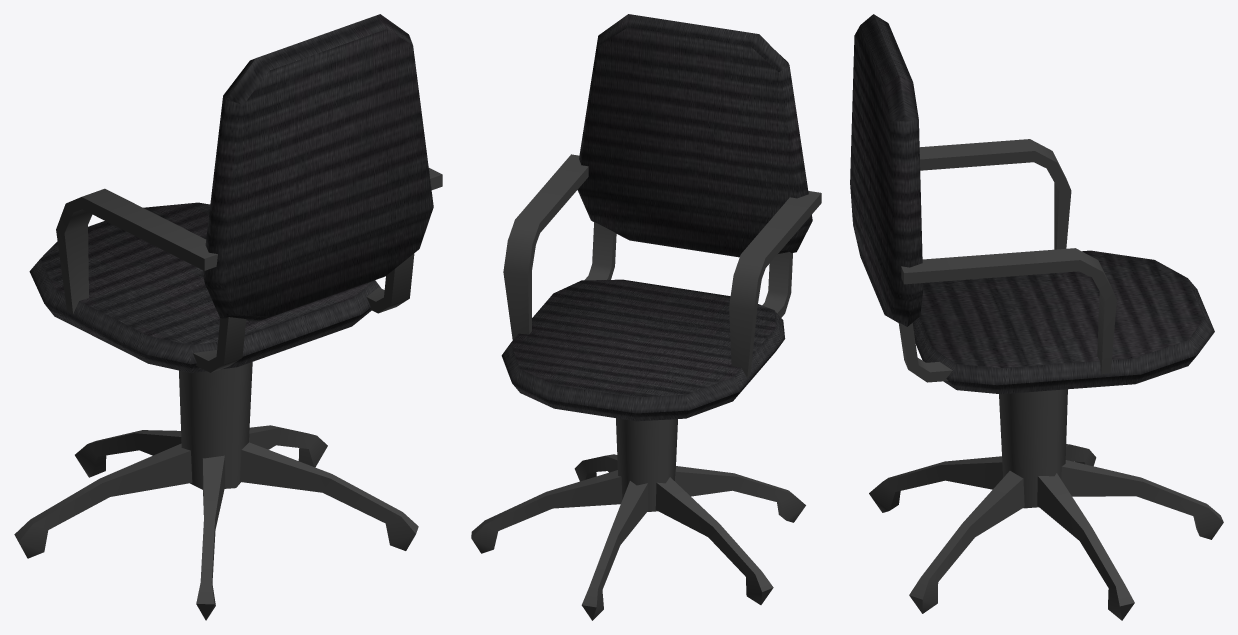
3 renders of one model, left to right at view 1: azimuth 30°, elevation 25°; view 2: azimuth 150°, elevation 25°; view 3: azimuth 270°, elevation 25°, orthographic. The views are drawn at different scales.
Visible parts, largest first — view 1: Cylinder017_Fabric_0, Cylinder017_Material010_0; view 2: Cylinder017_Fabric_0, Cylinder017_Material010_0; view 3: Cylinder017_Fabric_0, Cylinder017_Material010_0.
Boxes of the visible parts, box(x1,y1,x2,y2) form: Cylinder017_Fabric_0: box(29, 14, 433, 373); Cylinder017_Material010_0: box(14, 168, 442, 620); Cylinder017_Fabric_0: box(501, 14, 812, 421); Cylinder017_Material010_0: box(471, 154, 821, 620); Cylinder017_Fabric_0: box(850, 14, 1214, 394); Cylinder017_Material010_0: box(869, 139, 1223, 620).
Bounding box in the file's own units: 0.4983 × 0.7994 × 0.5213.
2 materials, 1 textured.
